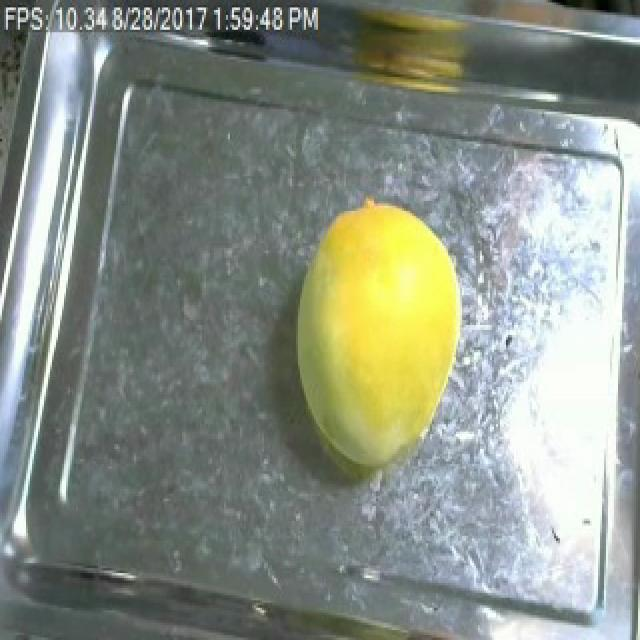fruit: (272, 176, 478, 494)
